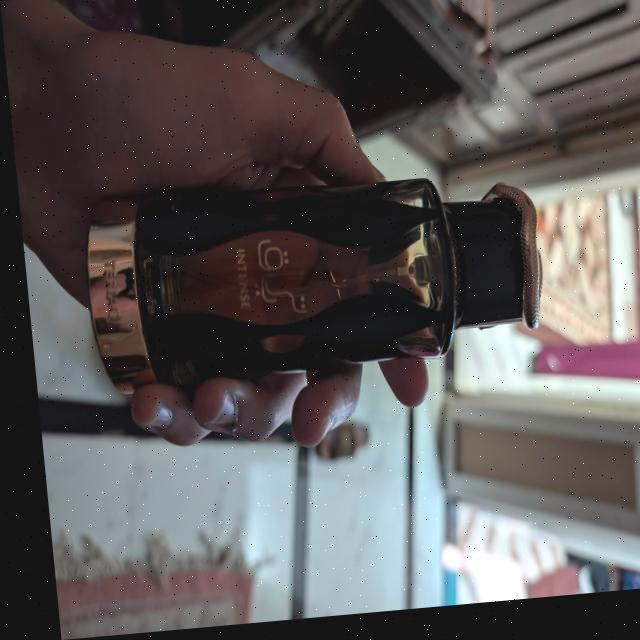Teriaq-Intense: (73, 165, 546, 402)
